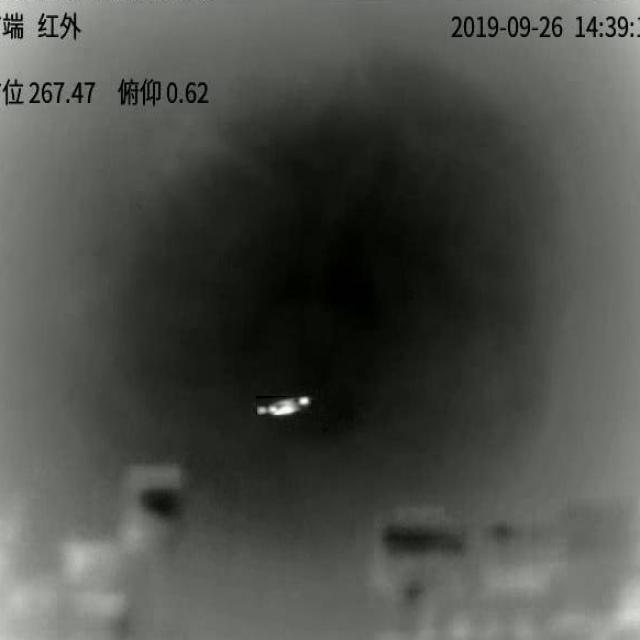drone: (257, 396, 310, 415)
